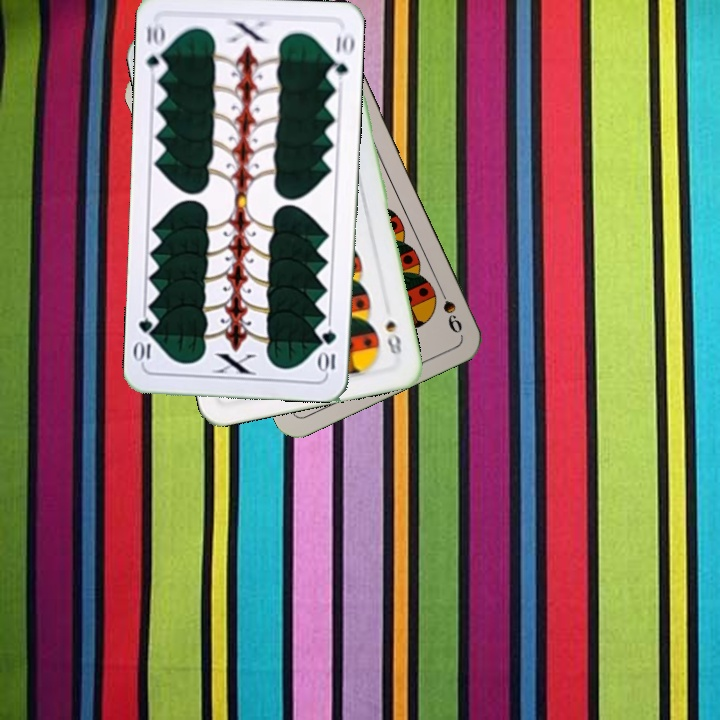G10: (142, 20, 169, 79), (316, 325, 339, 375)
S8: (381, 316, 404, 357)
S9: (433, 280, 465, 337)
